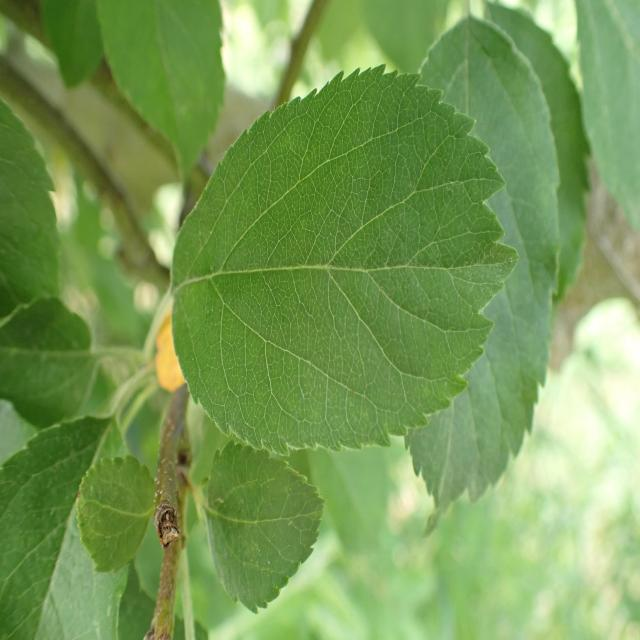healthy: (171, 64, 518, 460), (404, 16, 558, 532), (0, 413, 154, 640), (95, 0, 226, 183), (202, 440, 326, 614), (574, 0, 640, 232), (0, 96, 63, 320), (0, 296, 94, 427)
